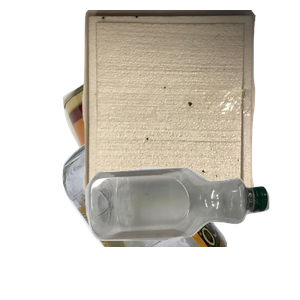glass: (60, 120, 300, 300)
metal: (60, 58, 300, 238)
plastic: (83, 165, 300, 300)
trash: (80, 10, 300, 190)
